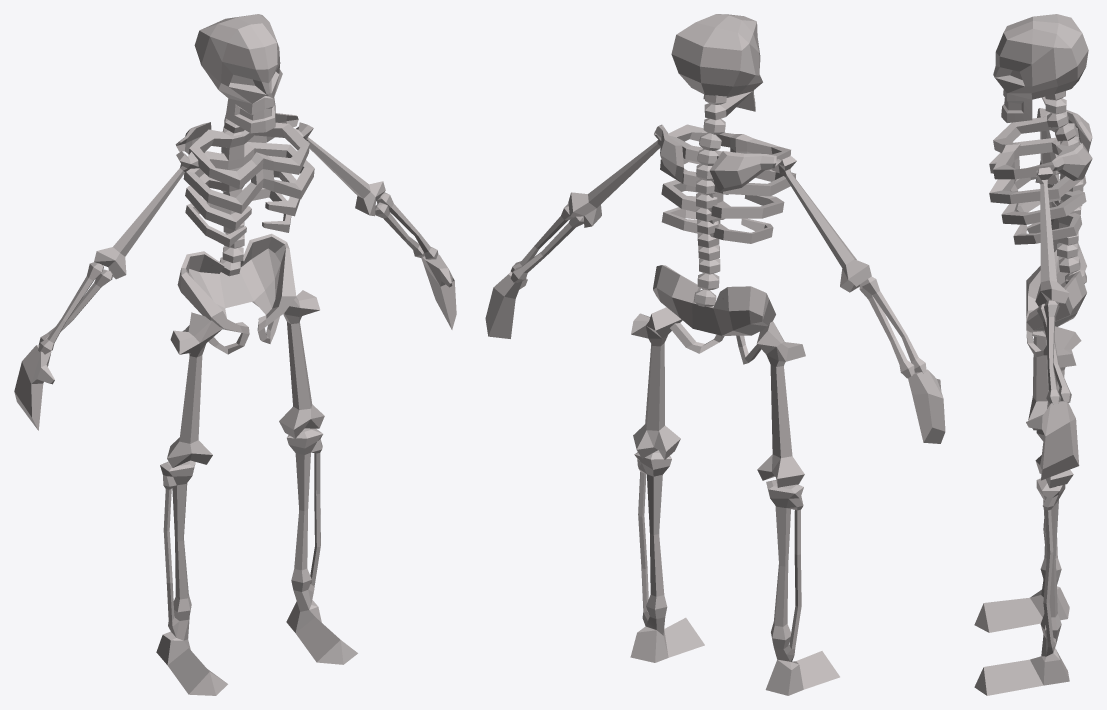
Rendered from ske_1.fbx.
3 views of the same model, side by side, from view 1: azimuth 30°, elevation 25°; view 2: azimuth 150°, elevation 25°; view 3: azimuth 270°, elevation 25° (orthographic). The views are drawn at different scales.
Parts seen in each view (by area): view 1: pSphere38; view 2: pSphere38; view 3: pSphere38.
Boxes of the visible parts, bbox=[...] form: pSphere38: bbox=[14, 14, 456, 695]; pSphere38: bbox=[485, 14, 945, 695]; pSphere38: bbox=[974, 14, 1092, 695].
Size of the model in its own units: 5.64 by 7.95 by 1.34.
Materials: 1 (1 with a texture image).
